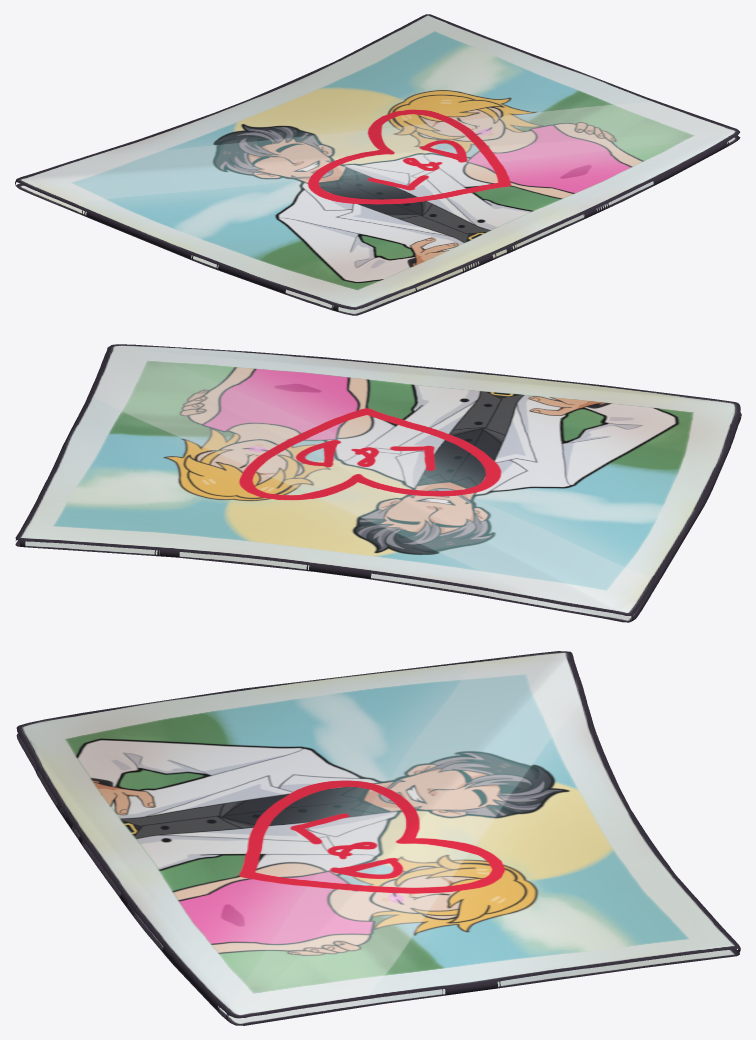
The model's file is FotoCasal.fbx.
The picture shows the model from 3 angles, top to bottom: view 1: azimuth 30°, elevation 25°; view 2: azimuth 150°, elevation 25°; view 3: azimuth 270°, elevation 25°; orthographic projection. The views are drawn at different scales.
Visible parts, largest first — view 1: FotoCasal; view 2: FotoCasal; view 3: FotoCasal.
Boxes of the visible parts, left/top/right/bottom form: FotoCasal: left=15, top=14, right=740, bottom=315; FotoCasal: left=15, top=344, right=741, bottom=622; FotoCasal: left=16, top=651, right=740, bottom=1025.
Size of the model in its own units: 147 by 1.61 by 123.
